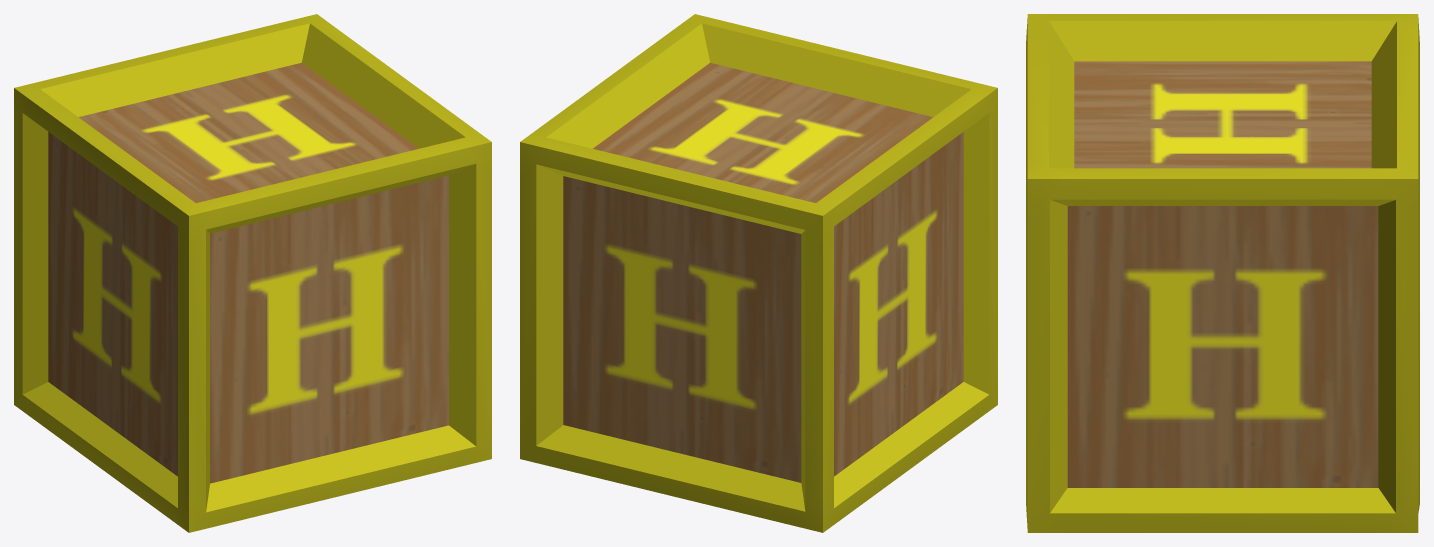
Rendered from Letter_H.fbx.
3 views of the same model, side by side, from view 1: azimuth 30°, elevation 25°; view 2: azimuth 150°, elevation 25°; view 3: azimuth 270°, elevation 25° (orthographic). The views are drawn at different scales.
Visible parts, largest first — view 1: LetterBlock_H; view 2: LetterBlock_H; view 3: LetterBlock_H.
Part boxes in pixels (<box>): LetterBlock_H: <box>14,14,491,532</box>; LetterBlock_H: <box>520,14,997,532</box>; LetterBlock_H: <box>1026,14,1419,532</box>.
Size of the model in its own units: 0.1209 by 0.1213 by 0.121.
1 material, 1 textured.
